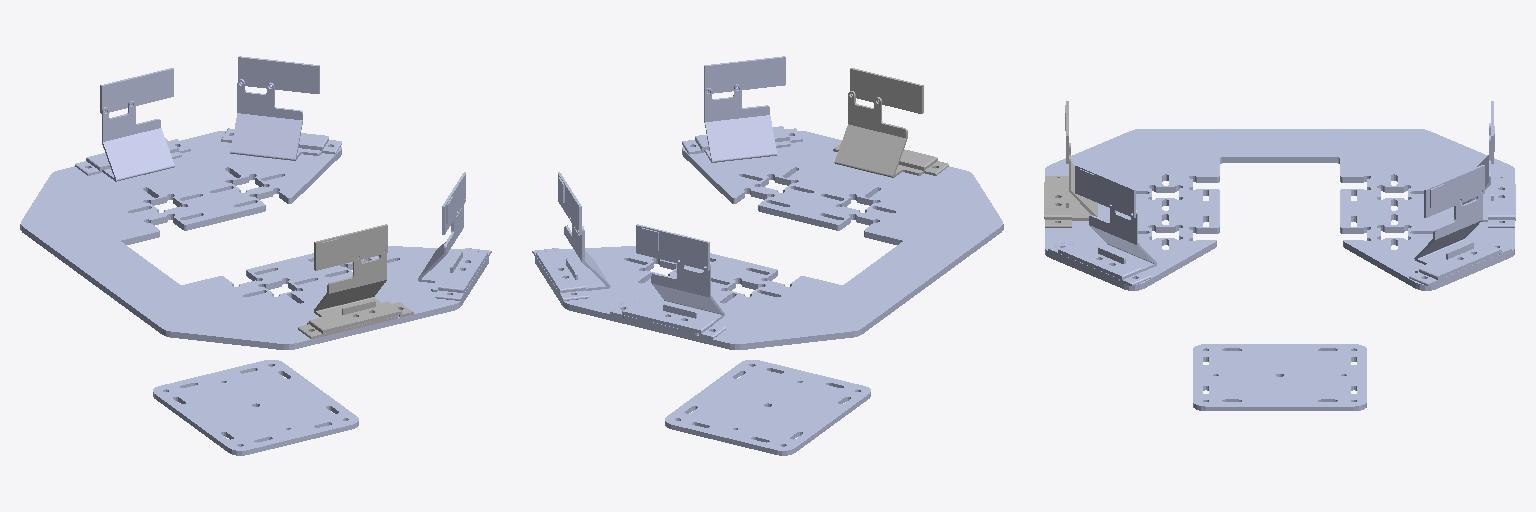
The robot description file, URDF, robot "sensor_tower_description":
<?xml version="1.0" encoding="utf-8"?>
<!-- This URDF was automatically created by SolidWorks to URDF Exporter! Originally created by [author] ([email redacted]) 
     Commit Version: 1.6.0-4-g7f85cfe  Build Version: 1.6.7995.38578
     For more information, please see http://wiki.ros.org/sw_urdf_exporter -->
<robot
  name="sensor_tower_description">
  <link
    name="sensor_tower_link">
    <inertial>
      <origin
        xyz="-0.0168694606432581 3.46944695195361E-17 0.112890450283758"
        rpy="0 0 0" />
      <mass
        value="0.341322335007201" />
      <inertia
        ixx="0.00364411904163728"
        ixy="-2.04820710478793E-18"
        ixz="-1.31182734805422E-21"
        iyy="0.00158707119592865"
        iyz="4.39166807750312E-19"
        izz="0.00522984911415873" />
    </inertial>
    <visual>
      <origin
        xyz="0 0 0"
        rpy="0 0 0" />
      <geometry>
        <mesh
          filename="package://sensor_tower_description/meshes/sensor_tower_link.STL" />
      </geometry>
      <material
        name="">
        <color
          rgba="0.792156862745098 0.819607843137255 0.933333333333333 1" />
      </material>
    </visual>
    <collision>
      <origin
        xyz="0 0 0"
        rpy="0 0 0" />
      <geometry>
        <mesh
          filename="package://sensor_tower_description/meshes/sensor_tower_link.STL" />
      </geometry>
    </collision>
  </link>
  <link
    name="mmwave_left_link">
    <inertial>
      <origin
        xyz="-0.00304848867754498 0.0204580697768618 -0.0437586529080803"
        rpy="0 0 0" />
      <mass
        value="0.0167468878642834" />
      <inertia
        ixx="7.84058393424274E-06"
        ixy="2.08485659336723E-07"
        ixz="-6.86783973489677E-08"
        iyy="2.51901574916046E-06"
        iyz="-4.63618000264675E-07"
        izz="7.29994263842275E-06" />
    </inertial>
    <visual>
      <origin
        xyz="0 0 0"
        rpy="0 0 0" />
      <geometry>
        <mesh
          filename="package://sensor_tower_description/meshes/mmwave_left_link.STL" />
      </geometry>
      <material
        name="">
        <color
          rgba="0.792156862745098 0.819607843137255 0.933333333333333 1" />
      </material>
    </visual>
    <collision>
      <origin
        xyz="0 0 0"
        rpy="0 0 0" />
      <geometry>
        <mesh
          filename="package://sensor_tower_description/meshes/mmwave_left_link.STL" />
      </geometry>
    </collision>
  </link>
  <joint
    name="mmwave_left_joint"
    type="fixed">
    <origin
      xyz="0.10905 0.1179 0.198"
      rpy="0 0 0.7854" />
    <parent
      link="sensor_tower_link" />
    <child
      link="mmwave_left_link" />
    <axis
      xyz="0.70711 -0.70711 0" />
  </joint>
  <link
    name="mmwave_right_link">
    <inertial>
      <origin
        xyz="-0.00304848867754492 0.0204580697768619 -0.0437586529080803"
        rpy="0 0 0" />
      <mass
        value="0.0167468878642835" />
      <inertia
        ixx="7.84058393424275E-06"
        ixy="2.08485659336722E-07"
        ixz="-6.86783973489692E-08"
        iyy="2.51901574916047E-06"
        iyz="-4.63618000264677E-07"
        izz="7.29994263842275E-06" />
    </inertial>
    <visual>
      <origin
        xyz="0 0 0"
        rpy="0 0 0" />
      <geometry>
        <mesh
          filename="package://sensor_tower_description/meshes/mmwave_right_link.STL" />
      </geometry>
      <material
        name="">
        <color
          rgba="0.792156862745098 0.819607843137255 0.933333333333333 1" />
      </material>
    </visual>
    <collision>
      <origin
        xyz="0 0 0"
        rpy="0 0 0" />
      <geometry>
        <mesh
          filename="package://sensor_tower_description/meshes/mmwave_right_link.STL" />
      </geometry>
    </collision>
  </link>
  <joint
    name="mmwave_right_joint"
    type="fixed">
    <origin
      xyz="0.082886 -0.14406 0.198"
      rpy="0 0 -0.7854" />
    <parent
      link="sensor_tower_link" />
    <child
      link="mmwave_right_link" />
    <axis
      xyz="0.70711 0.70711 0" />
  </joint>
  <link
    name="mmwave_left_back_link">
    <inertial>
      <origin
        xyz="-0.00304848867754509 0.0204580697768619 -0.0437586529080803"
        rpy="0 0 0" />
      <mass
        value="0.0167468878642835" />
      <inertia
        ixx="7.84058393424276E-06"
        ixy="2.08485659336725E-07"
        ixz="-6.86783973489698E-08"
        iyy="2.51901574916047E-06"
        iyz="-4.63618000264681E-07"
        izz="7.29994263842277E-06" />
    </inertial>
    <visual>
      <origin
        xyz="0 0 0"
        rpy="0 0 0" />
      <geometry>
        <mesh
          filename="package://sensor_tower_description/meshes/mmwave_left_back_link.STL" />
      </geometry>
      <material
        name="">
        <color
          rgba="0.792156862745098 0.819607843137255 0.933333333333333 1" />
      </material>
    </visual>
    <collision>
      <origin
        xyz="0 0 0"
        rpy="0 0 0" />
      <geometry>
        <mesh
          filename="package://sensor_tower_description/meshes/mmwave_left_back_link.STL" />
      </geometry>
    </collision>
  </link>
  <joint
    name="mmwave_left_back_joint"
    type="fixed">
    <origin
      xyz="0.008485 0.16025 0.198"
      rpy="0 0 1.5708" />
    <parent
      link="sensor_tower_link" />
    <child
      link="mmwave_left_back_link" />
    <axis
      xyz="0 1 0" />
  </joint>
  <link
    name="mmwave_right_back_link">
    <inertial>
      <origin
        xyz="-0.00304848867754499 0.0204580697768618 -0.0437586529080803"
        rpy="0 0 0" />
      <mass
        value="0.0167468878642835" />
      <inertia
        ixx="7.84058393424275E-06"
        ixy="2.08485659336724E-07"
        ixz="-6.86783973489701E-08"
        iyy="2.51901574916047E-06"
        iyz="-4.63618000264677E-07"
        izz="7.29994263842275E-06" />
    </inertial>
    <visual>
      <origin
        xyz="0 0 0"
        rpy="0 0 0" />
      <geometry>
        <mesh
          filename="package://sensor_tower_description/meshes/mmwave_right_back_link.STL" />
      </geometry>
      <material
        name="">
        <color
          rgba="0.752941176470588 0.752941176470588 0.752941176470588 1" />
      </material>
    </visual>
    <collision>
      <origin
        xyz="0 0 0"
        rpy="0 0 0" />
      <geometry>
        <mesh
          filename="package://sensor_tower_description/meshes/mmwave_right_back_link.STL" />
      </geometry>
    </collision>
  </link>
  <joint
    name="mmwave_right_back_joint"
    type="fixed">
    <origin
      xyz="-0.028515 -0.16025 0.198"
      rpy="0 0 -1.5708" />
    <parent
      link="sensor_tower_link" />
    <child
      link="mmwave_right_back_link" />
    <axis
      xyz="0 1 0" />
  </joint>
</robot>

--- What the picture shows (computed from the rendered views, not written in the file) ---
The picture shows the robot from 3 angles, left to right: view 1: azimuth 30°, elevation 25°; view 2: azimuth 150°, elevation 25°; view 3: azimuth 270°, elevation 25°; orthographic projection.
Robot: sensor_tower_description — 5 links, 4 joints (4 fixed); root link sensor_tower_link; default pose: all joints at 0.
Visible links, largest first — view 1: sensor_tower_link, mmwave_left_link, mmwave_left_back_link, mmwave_right_back_link, mmwave_right_link; view 2: sensor_tower_link, mmwave_right_link, mmwave_right_back_link, mmwave_left_back_link, mmwave_left_link; view 3: sensor_tower_link, mmwave_left_link, mmwave_right_link, mmwave_right_back_link, mmwave_left_back_link.
Boxes of the visible links, <box> form: sensor_tower_link: <box>20,131,488,455</box>; mmwave_left_link: <box>221,56,341,160</box>; mmwave_left_back_link: <box>75,68,190,181</box>; mmwave_right_back_link: <box>298,224,413,338</box>; mmwave_right_link: <box>418,172,491,300</box>; sensor_tower_link: <box>535,131,1003,455</box>; mmwave_right_link: <box>682,56,802,162</box>; mmwave_right_back_link: <box>833,68,948,177</box>; mmwave_left_back_link: <box>610,224,725,338</box>; mmwave_left_link: <box>532,172,610,300</box>; sensor_tower_link: <box>1045,129,1514,410</box>; mmwave_left_link: <box>1409,165,1511,285</box>; mmwave_right_link: <box>1048,165,1156,285</box>; mmwave_right_back_link: <box>1044,101,1097,227</box>; mmwave_left_back_link: <box>1462,101,1515,227</box>.
Size in the robot's own frame: 0.2775 by 0.3505 by 0.2105 metres.
5 mesh visuals loaded from 5 distinct referenced files (5 binary STL).